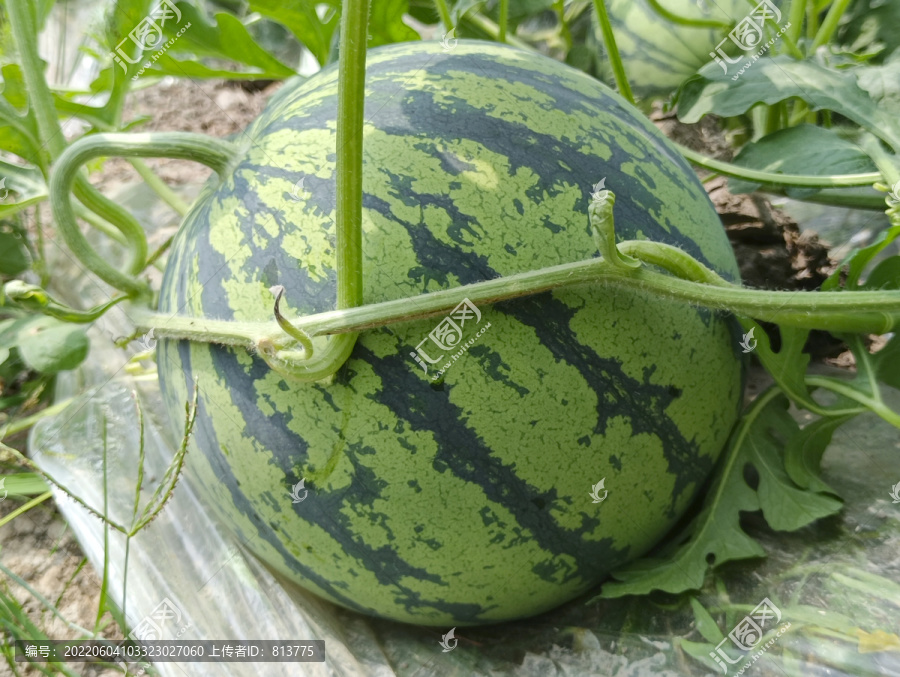watermelon: (165, 39, 749, 634)
